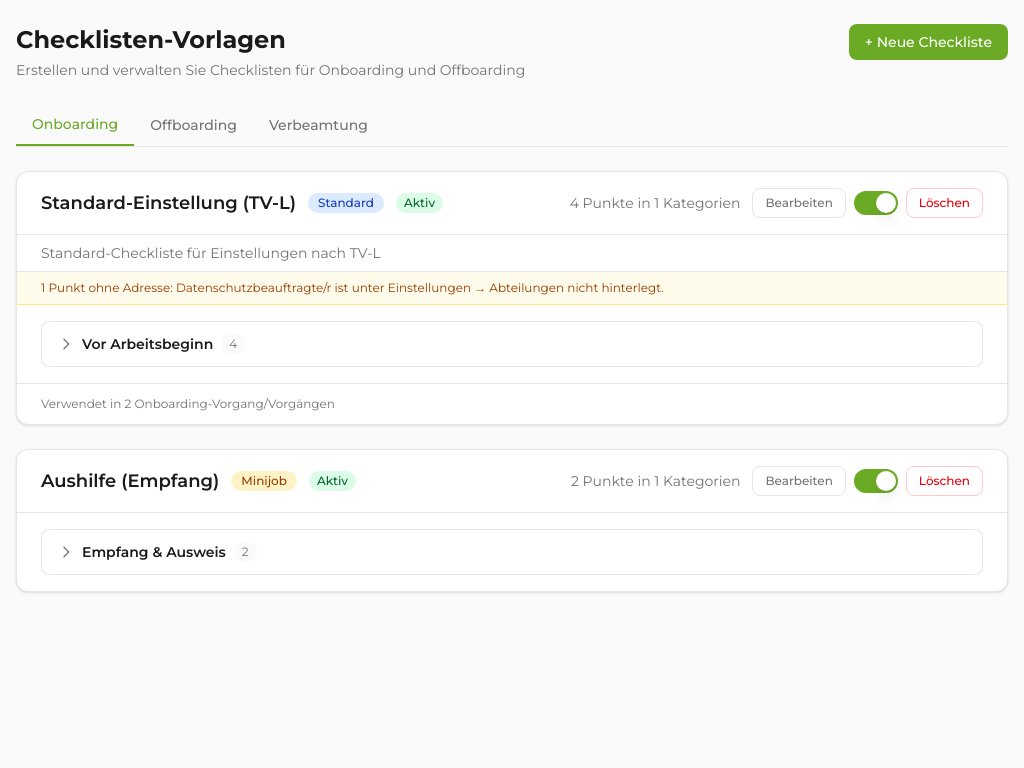
Test: Vorlagen-Karte › zeigt Labels statt Rohschluessel und die Faelligkeit je Modul
This screenshot has width=1024, height=768.
Click the button "Vor Arbeitsbeginn 4". click: [148, 344]
box: x1=42 y1=322 x2=982 y2=366
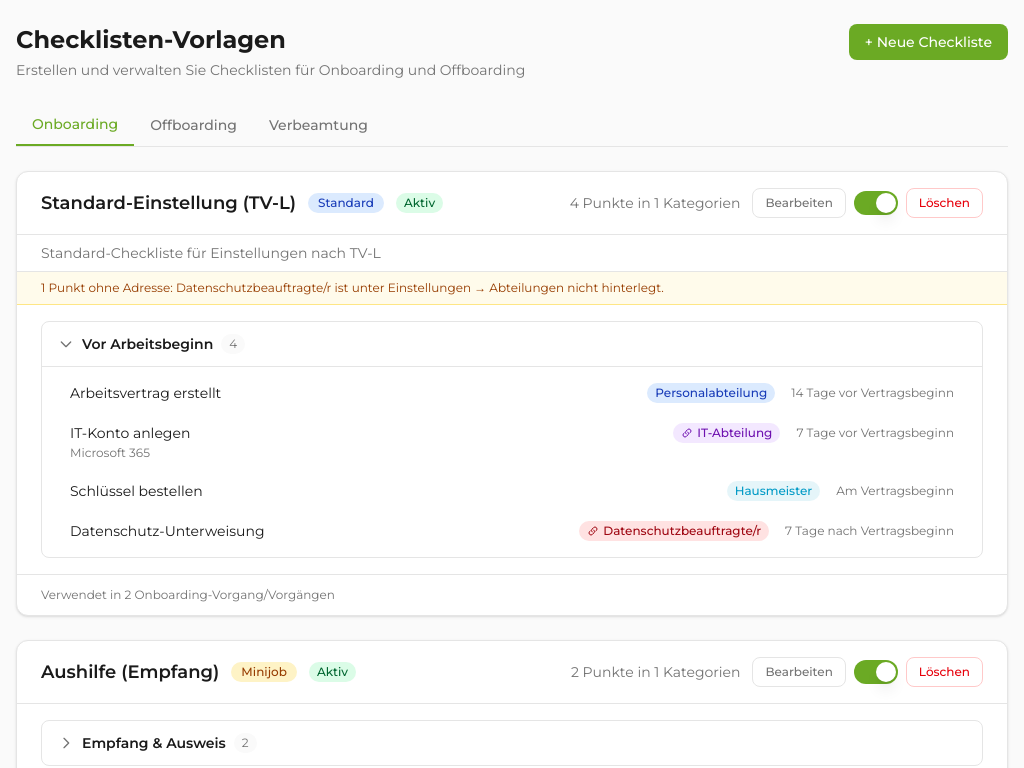
expect the text "IT-Abteilung" is shown: met, box x1=673 y1=423 x2=780 y2=443
expect the text "Personalabteilung" is shown: met, box x1=647 y1=383 x2=775 y2=403
expect the text "14 Tage vor Vertragsbeginn" is shown: met, box x1=791 y1=385 x2=954 y2=401
